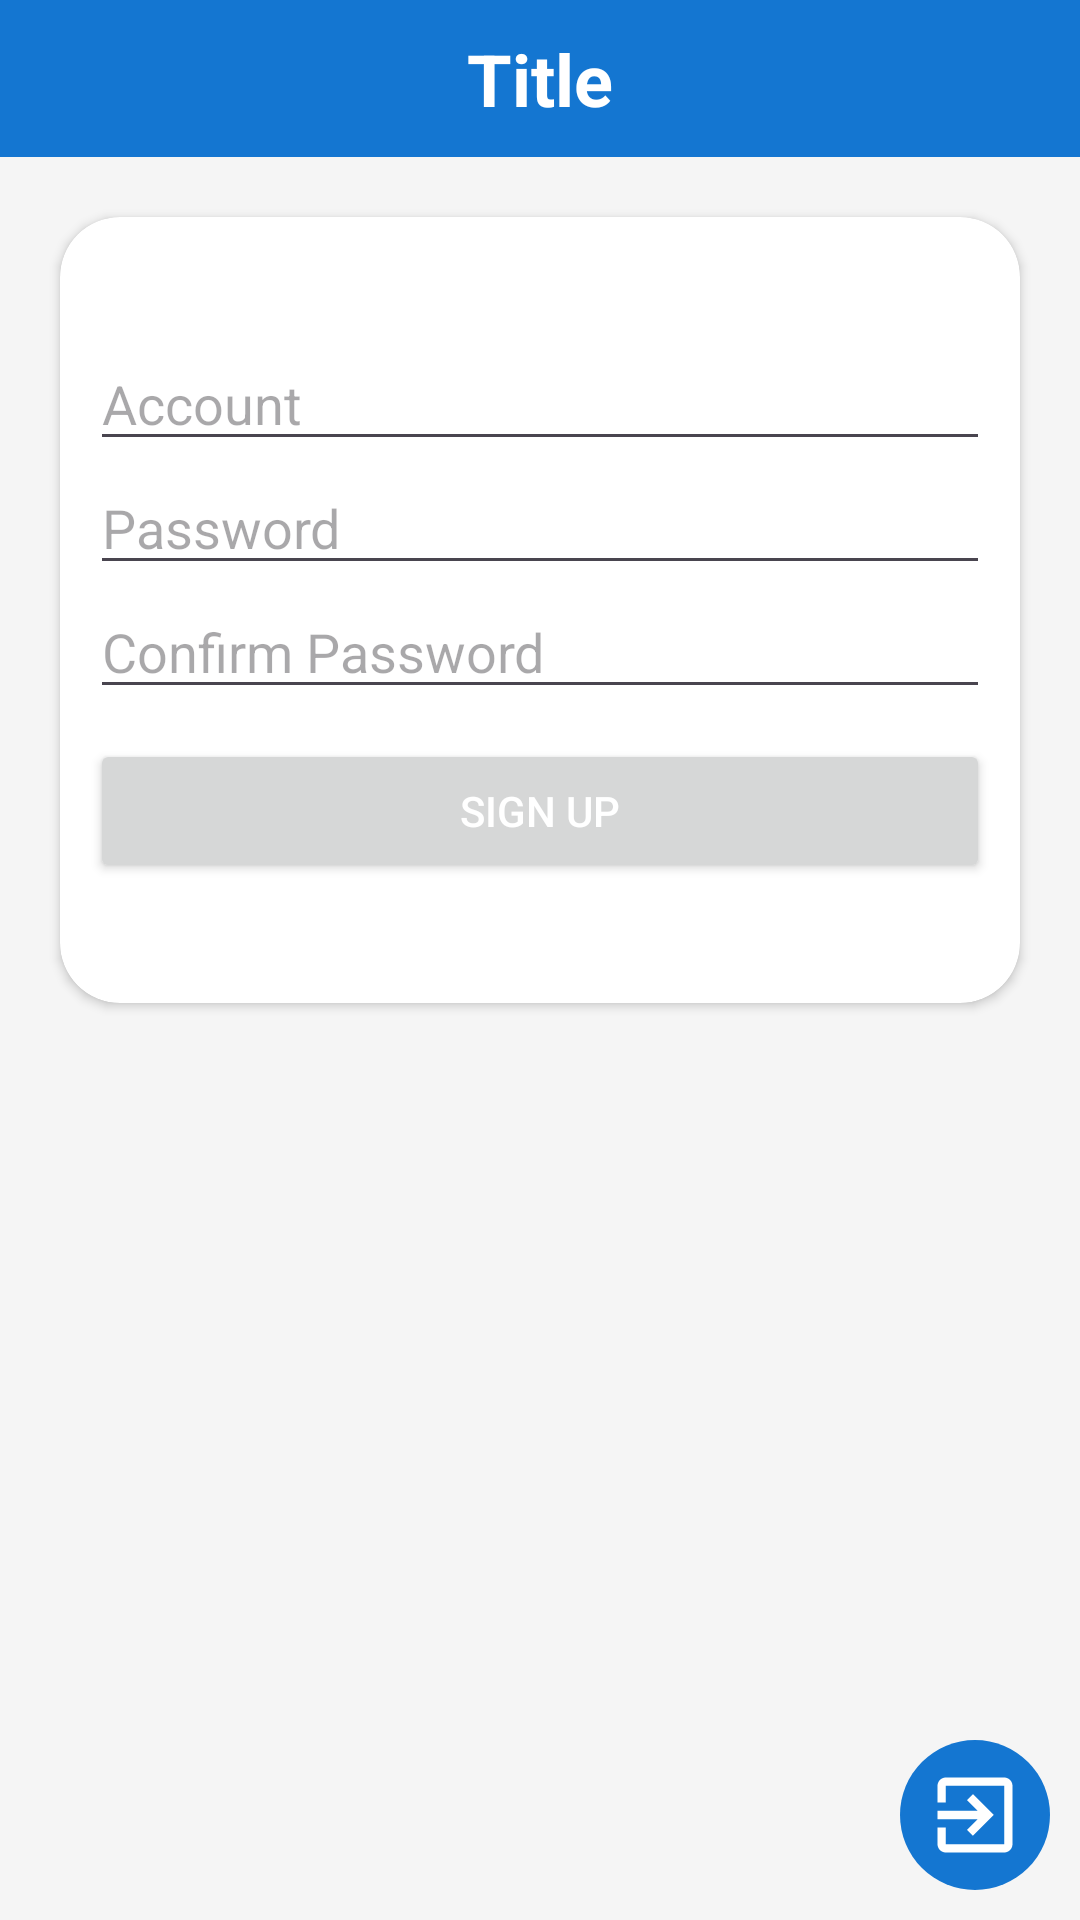

Icon bounding boxes for this 1080x1920 phone screenshot, format {"left": x1, "top": y1, "right": x2, "bottom": y2}:
exit: {"left": 900, "top": 1740, "right": 1050, "bottom": 1890}
